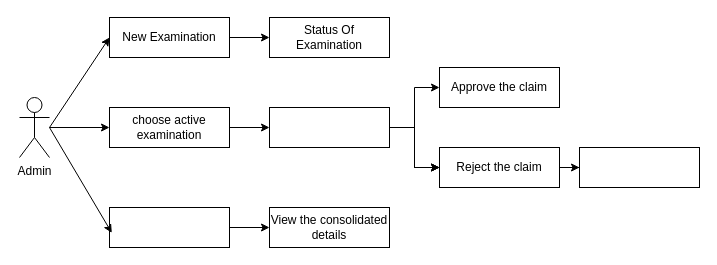
Image size: 717x265. Some labels were removed from this diagram. The centre of each missing label's shape, as x and y in pixels:
"Provide Remarks" belongs at [639,167].
"Search for inactive examination" belongs at [169,227].
"View claim details" belongs at [329,127].
